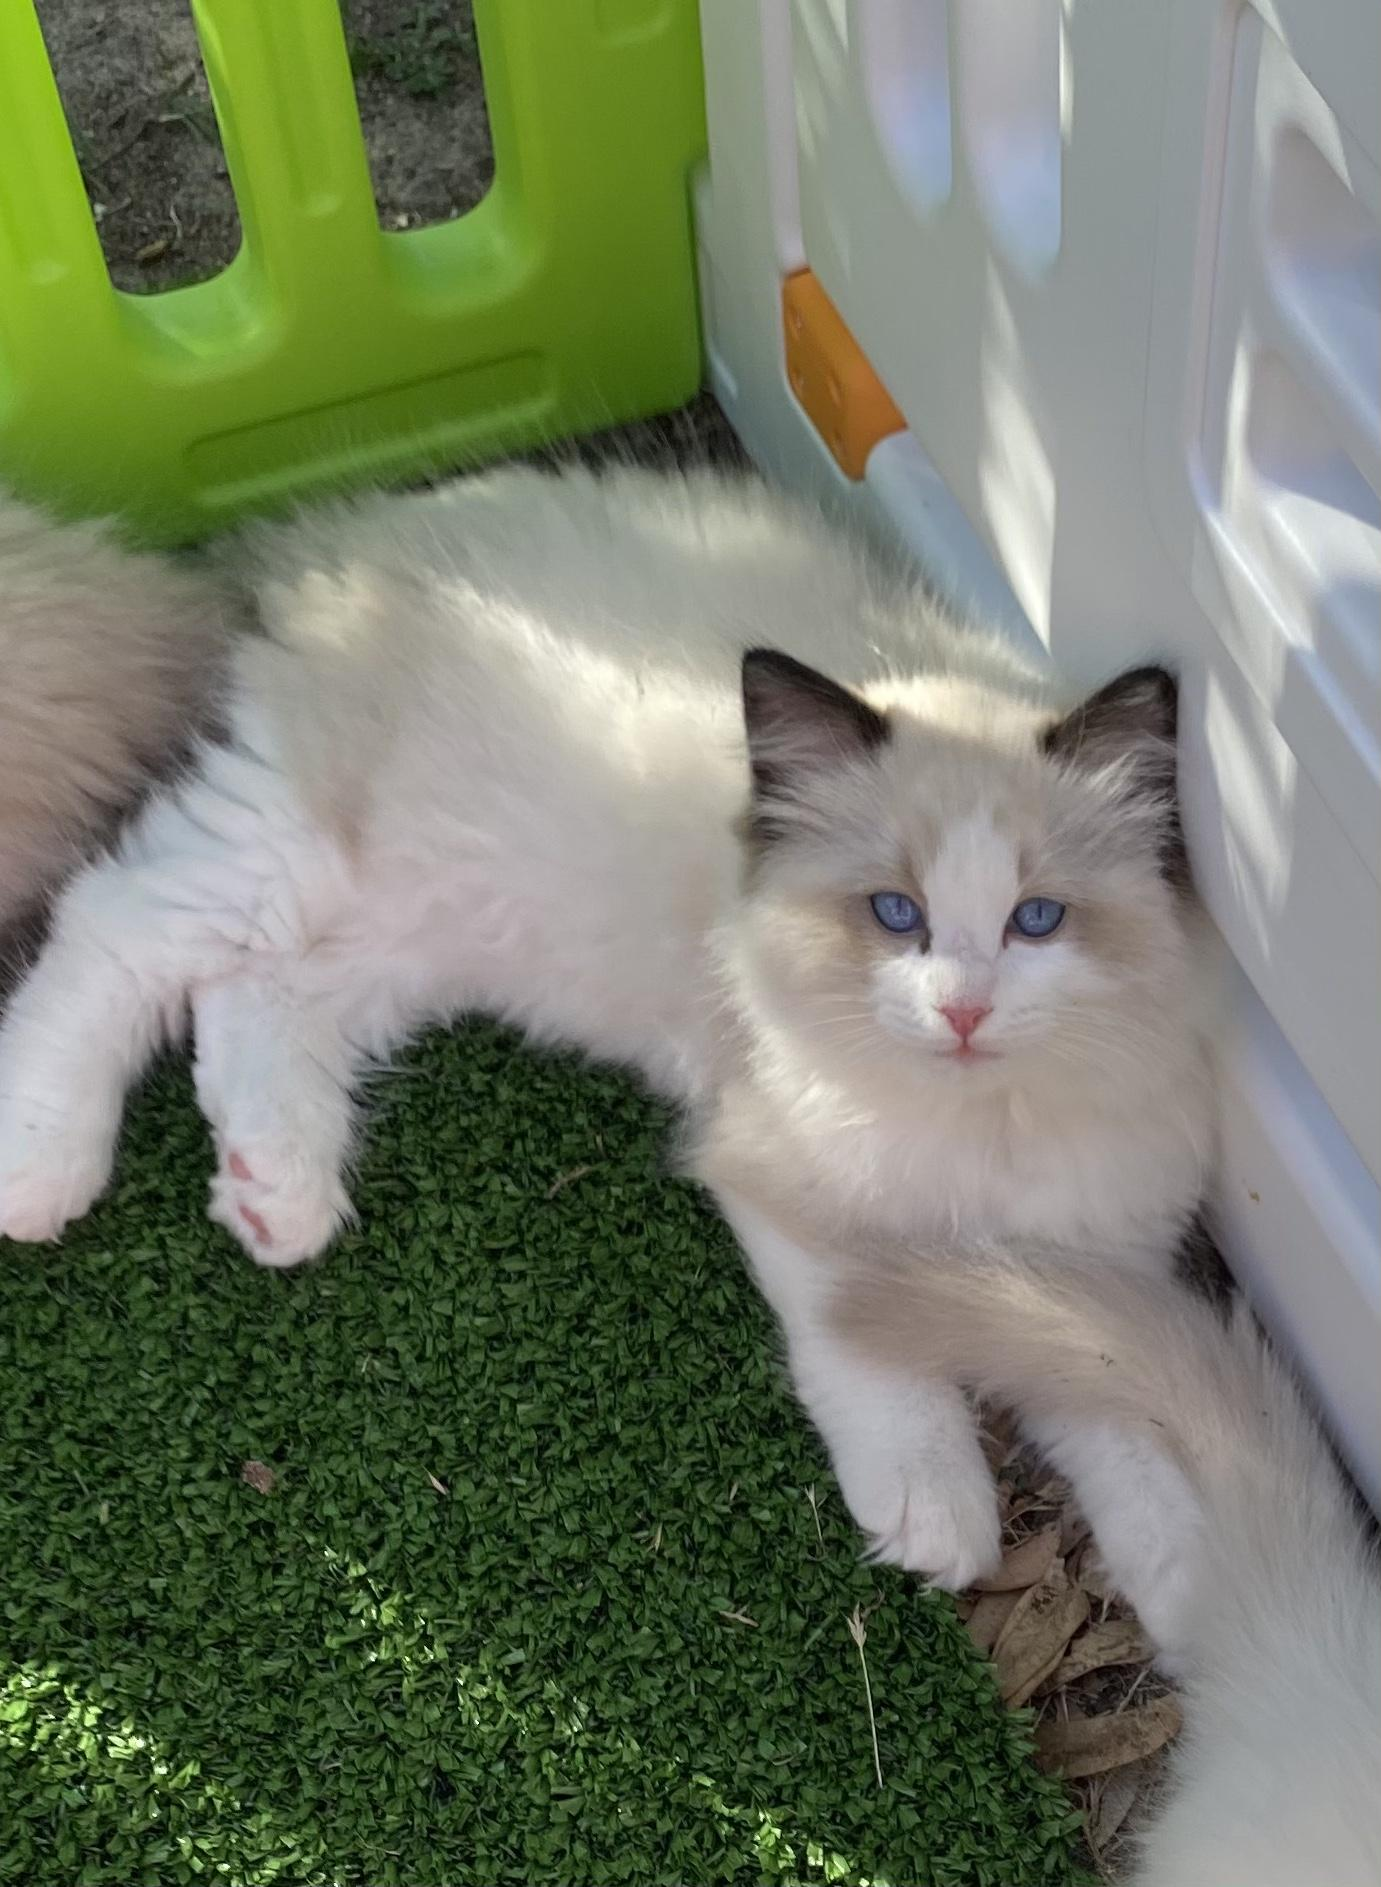ragdoll: (701, 615, 1227, 1159)
